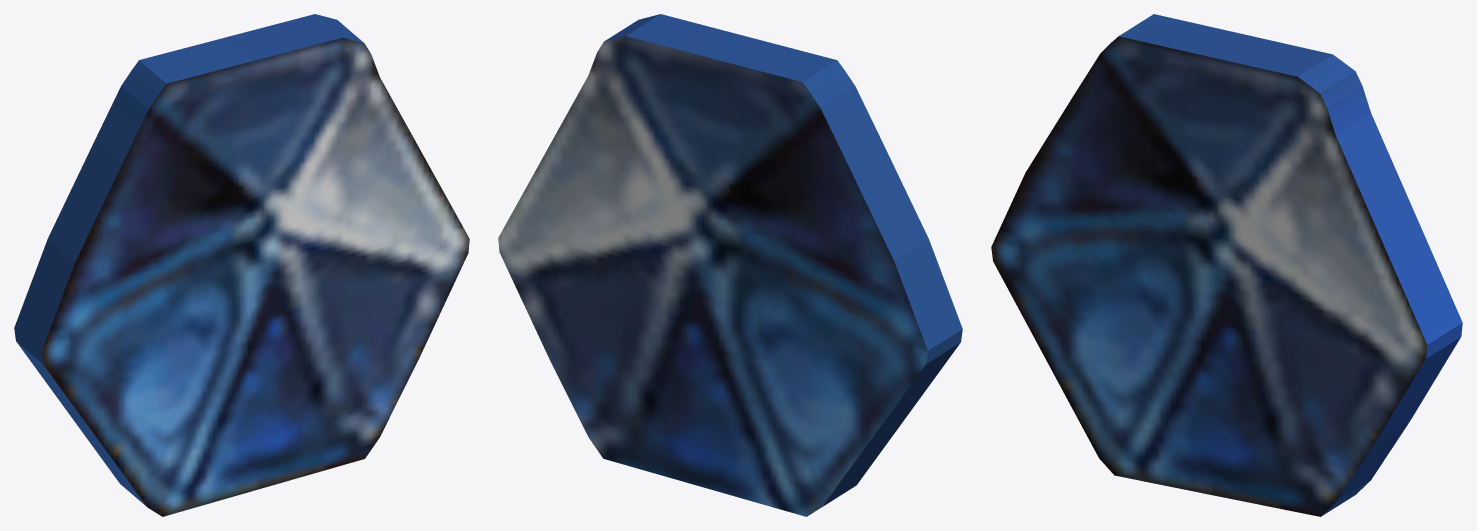
Rendered from Mana_Played.glb.
The picture shows the model from 3 angles, left to right: view 1: azimuth 30°, elevation 25°; view 2: azimuth 150°, elevation 25°; view 3: azimuth 330°, elevation 25°; orthographic projection.
Parts seen in each view (by area): view 1: Circle.001; view 2: Circle.001; view 3: Circle.001.
Part boxes in pixels (x1,y1,x2,y2): Circle.001: (14,14,469,516); Circle.001: (498,14,962,516); Circle.001: (991,14,1462,516).
Bounding box in the file's own units: 1.7 × 1.64 × 0.2125.
1 material, 1 textured.
